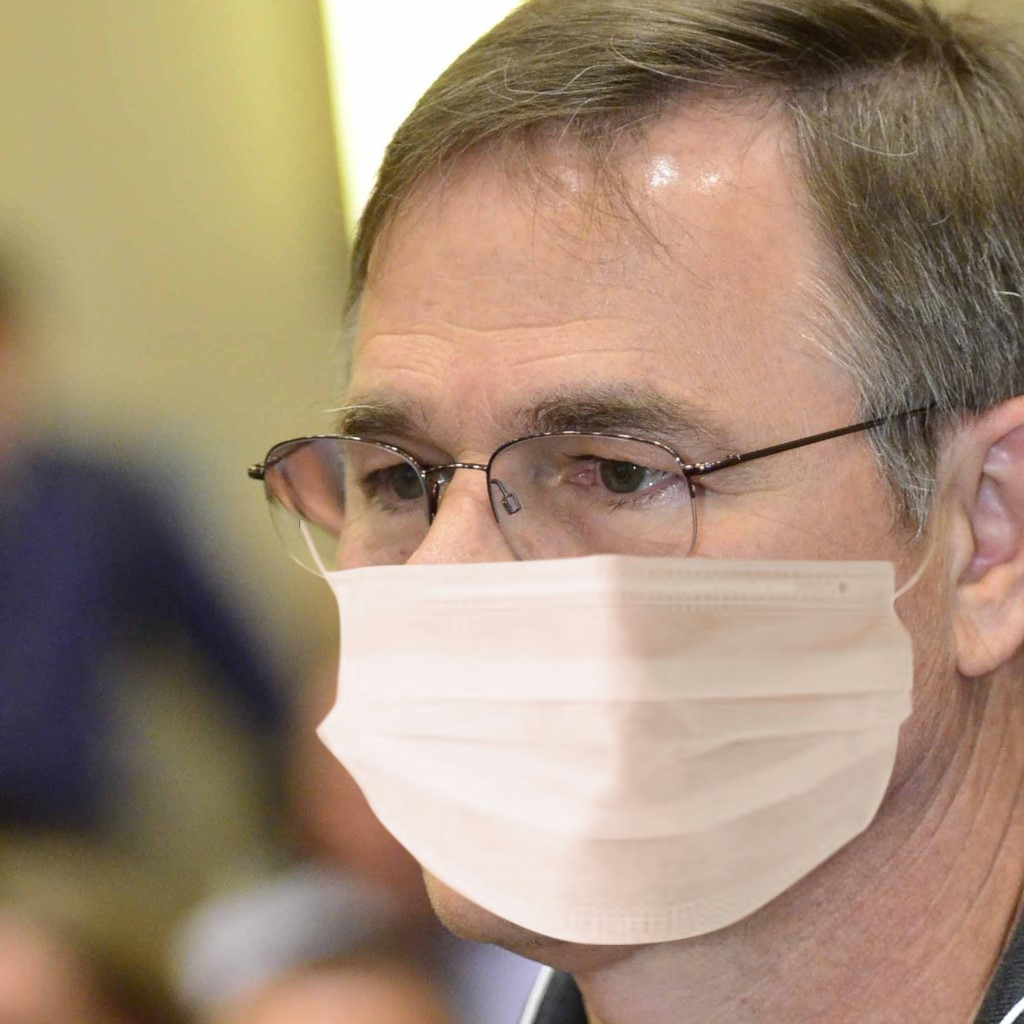con_mascara: (293, 77, 950, 933)
